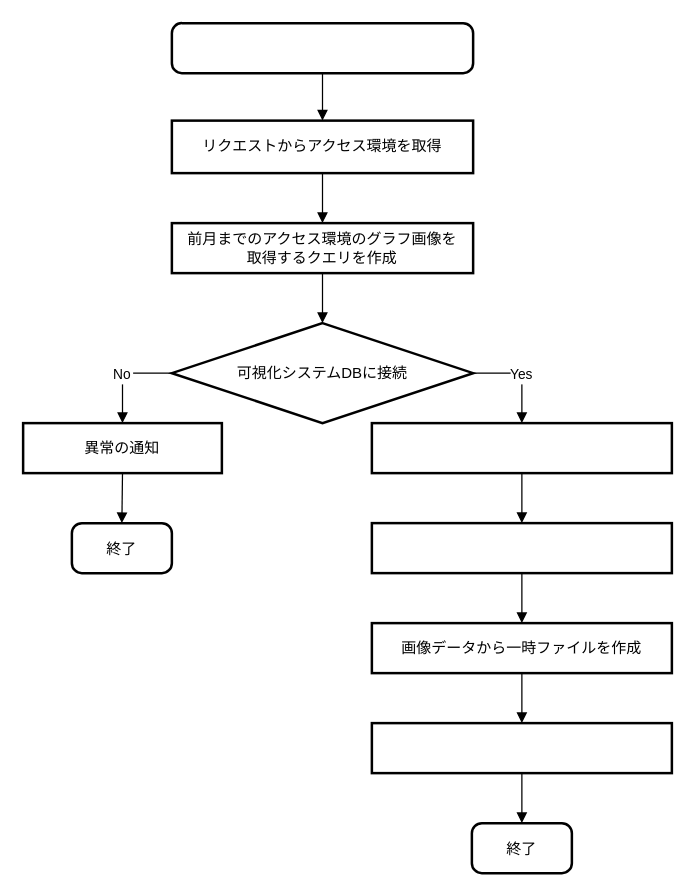
Image size: 694x895. Some labels were removed from this diagram. Each missing label, with the centre of its shape:
Webサーバーコンテナからリクエストを受信: (x=322, y=47)
クエリを実行: (x=521, y=447)
グラフ画像記録用テーブルから 画像データを取得: (x=521, y=547)
一時ファイルのアドレスを Webサーバーコンテナに返信: (x=521, y=747)
